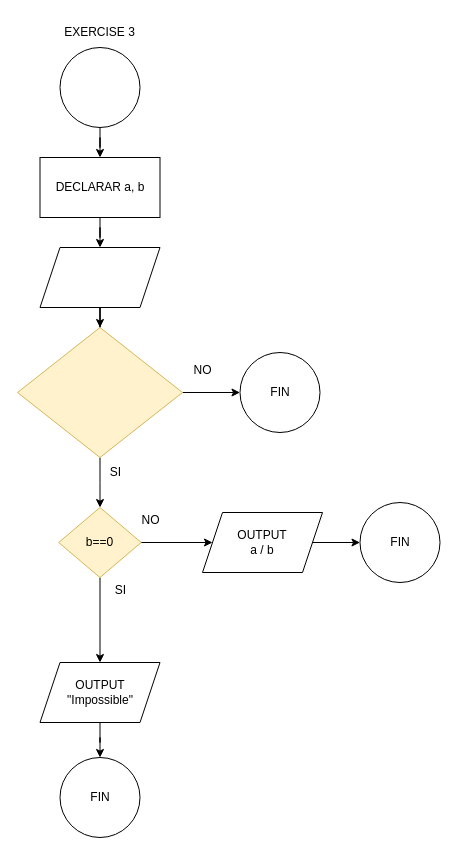
Image size: 458x855. Some labels were removed from this diagram. The shapes that lost their labels are listed below. From the top down, each one's box as (x1, y1, x2, y2) in pixels, then its label:
(59, 46, 140, 128): INICIO
(39, 246, 160, 308): INPUT a, b
(16, 326, 182, 458): 0 <= a <= 1000000 y 0 <= b <= 1000000
